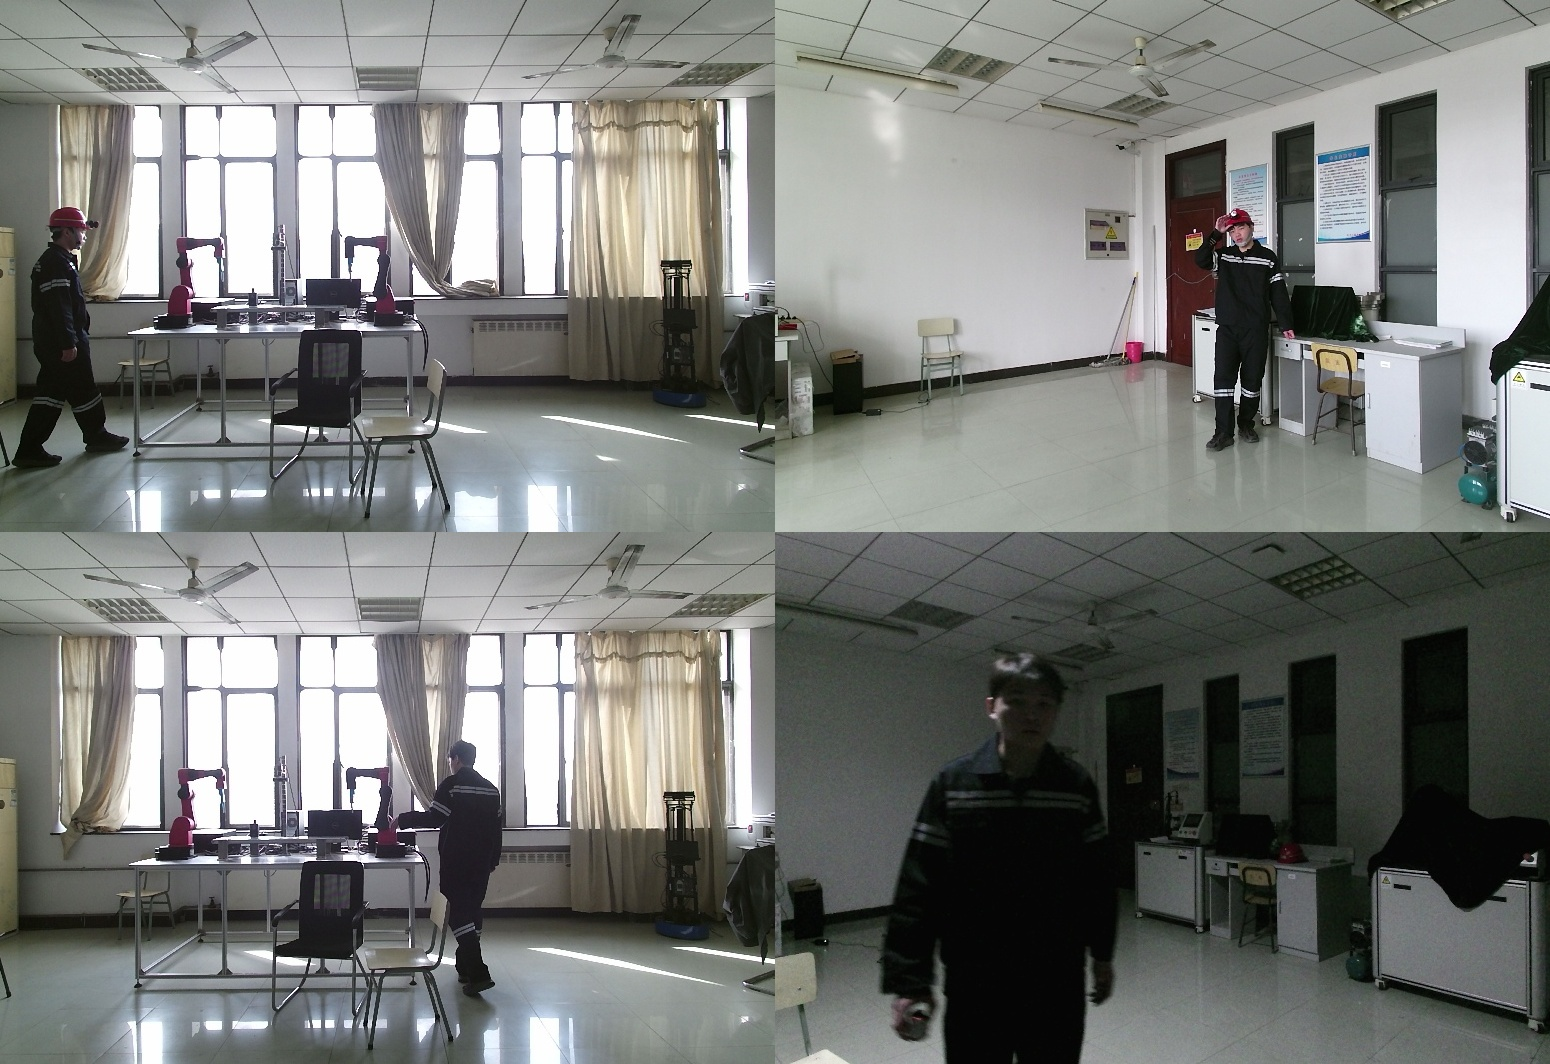person: (880, 654, 1130, 1064), (12, 207, 130, 467), (405, 750, 509, 999), (1198, 209, 1300, 453)
